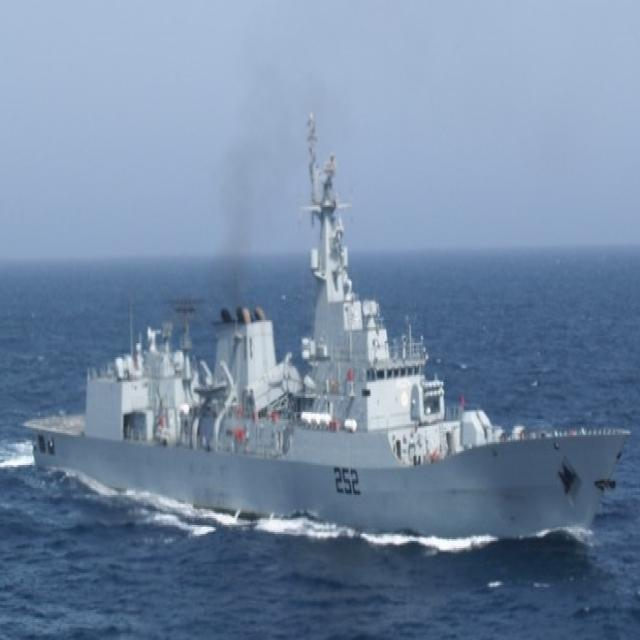navalvessels: (30, 109, 634, 544)
